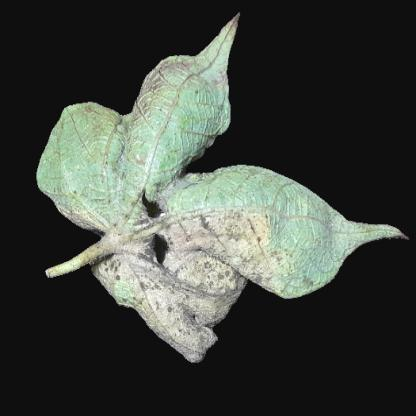curl_stage2: (136, 102, 200, 174), (293, 191, 345, 277), (50, 128, 111, 188), (203, 175, 279, 207)
sooty: (157, 214, 245, 316), (102, 192, 158, 287), (172, 314, 212, 354)
